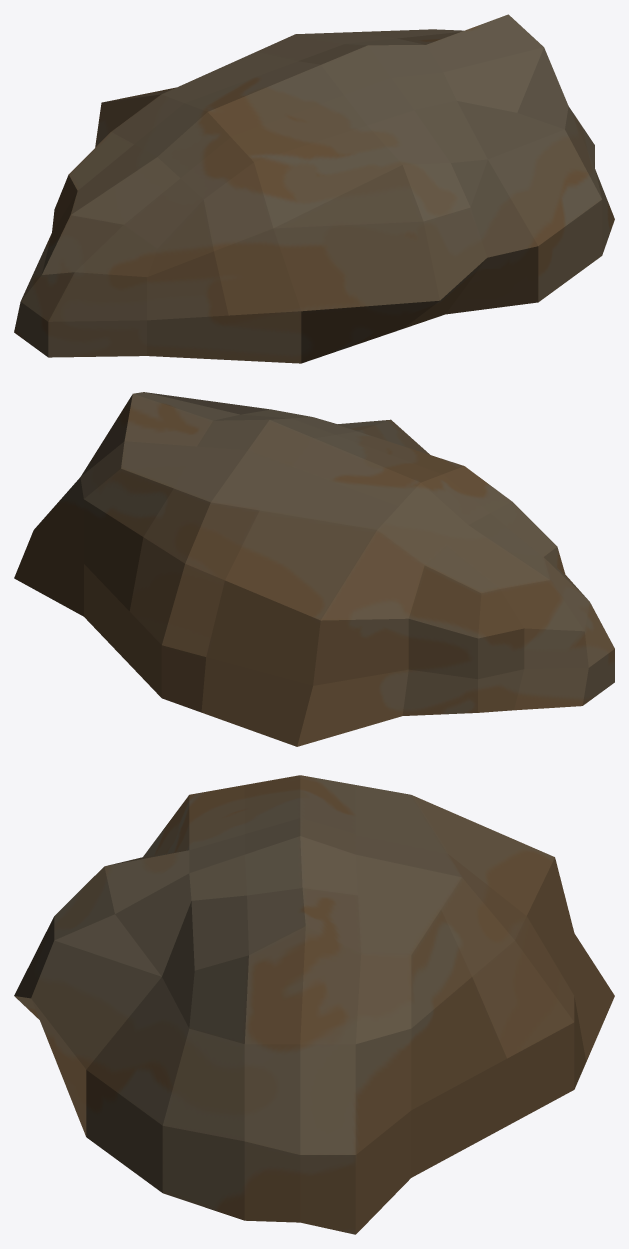
Rendered from Rock04_Model.fbx.
3 renders of one model, top to bottom at view 1: azimuth 30°, elevation 25°; view 2: azimuth 150°, elevation 25°; view 3: azimuth 270°, elevation 25°, orthographic. The views are drawn at different scales.
Parts seen in each view (by area): view 1: pCube19; view 2: pCube19; view 3: pCube19.
Boxes of the visible parts, x1=… form: pCube19: x1=14, y1=14, x2=614, y2=363; pCube19: x1=14, y1=392, x2=614, y2=746; pCube19: x1=14, y1=775, x2=614, y2=1234.
Bounding box in the file's own units: 3.68 × 1.26 × 2.71.
